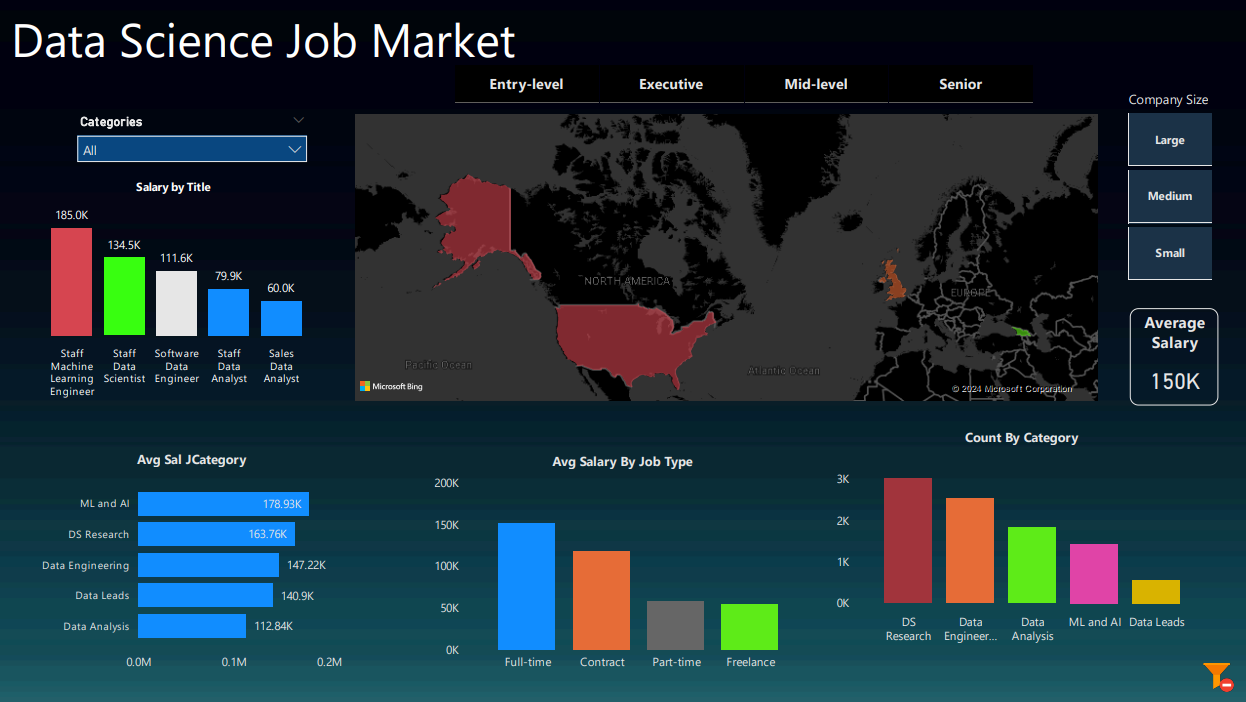

The page's visual inventory and layout, read from the dashboard file:
{"tool":"powerbi","page":{"name":"Main","canvas":[1280,720],"ordinal":0},"visuals":[{"type":"slicer","fields":{"Values":["jobs_in_data.experience_level"]},"box":[343.7,14.9,642.5,50.6],"z":0},{"type":"clusteredColumnChart","fields":{"Y":["jobs_in_data.AverageSalary"],"Category":["jobs_in_data.job_title"]},"box":[18.6,100,318.6,235.6],"z":1000},{"type":"barChart","fields":{"Category":["jobs_in_data.job_category"],"Y":["Avg(jobs_in_data.salary)"]},"box":[18.4,411.2,319.3,239.1],"z":2000},{"type":"card","fields":{"Values":["jobs_in_data.AverageSalary"]},"box":[1153.8,247.5,92.5,100],"z":3000},{"type":"slicer","fields":{"Values":["jobs_in_data.job_category"]},"box":[36.8,14.5,256.2,68.3],"z":4000},{"type":"columnChart","fields":{"Category":["jobs_in_data.employment_type"],"Y":["Avg(jobs_in_data.salary)"]},"box":[432.3,413.9,395.5,236.5],"z":5000},{"type":"filledMap","fields":{"Category":["jobs_in_data.company_location"]},"box":[360,76.2,772.5,305],"z":6000},{"type":"slicer","fields":{"Values":["jobs_in_data.company_size"]},"box":[1132.3,22.6,135.5,206.5],"z":7000},{"type":"columnChart","fields":{"Category":["jobs_in_data.job_category"],"Y":["CountNonNull(jobs_in_data.job_title)"]},"box":[854,411.2,390.2,233.9],"z":7001},{"type":"image","box":[1216,668,57.3,37.3],"z":7002}]}

Visuals, with their boxes in screenshot pixels (x1, y1, x2, y2), scaled from the page's 1280x720 canvas onto the 1246x702 screenshot:
slicer - jobs_in_data.experience_level: 335:15:960:64
clusteredColumnChart - jobs_in_data.AverageSalary x jobs_in_data.job_title: 18:98:328:327
barChart - jobs_in_data.job_category x Avg(jobs_in_data.salary): 18:401:329:634
card - jobs_in_data.AverageSalary: 1123:241:1213:339
slicer - jobs_in_data.job_category: 36:14:285:81
columnChart - jobs_in_data.employment_type x Avg(jobs_in_data.salary): 421:404:806:634
filledMap - jobs_in_data.company_location: 350:74:1102:372
slicer - jobs_in_data.company_size: 1102:22:1234:223
columnChart - jobs_in_data.job_category x CountNonNull(jobs_in_data.job_title): 831:401:1211:629
image: 1184:651:1239:688
